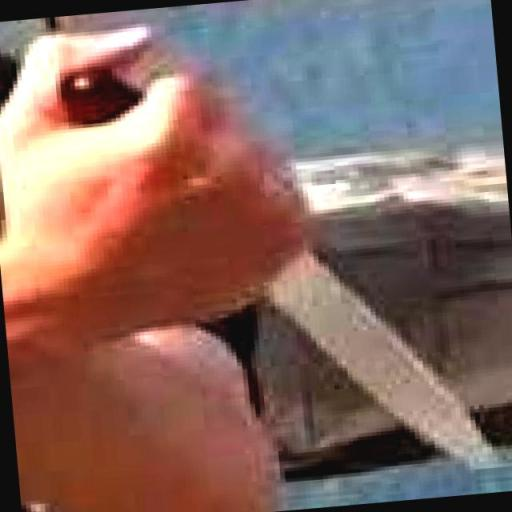knife: (47, 25, 512, 512)
